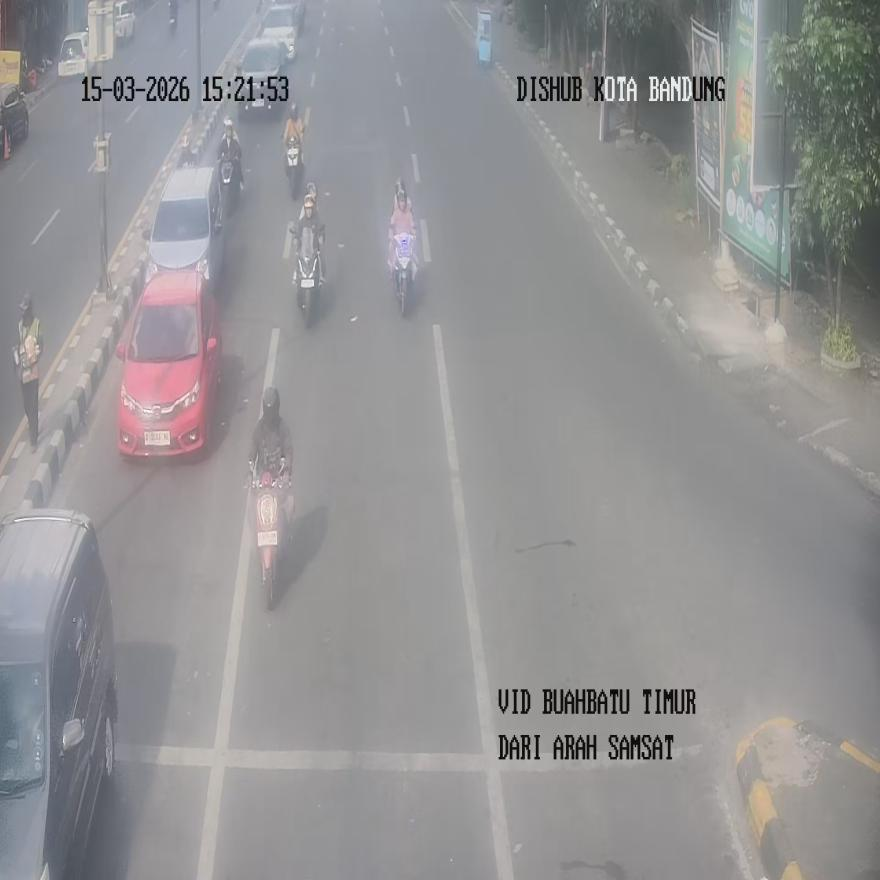Motor: (0, 510, 118, 878), (116, 269, 222, 456), (142, 164, 224, 291)
Truk: (248, 460, 292, 609), (291, 217, 323, 326), (217, 118, 243, 209), (390, 231, 416, 316), (218, 154, 242, 216), (284, 102, 305, 167), (285, 135, 303, 200), (169, 0, 178, 33)
